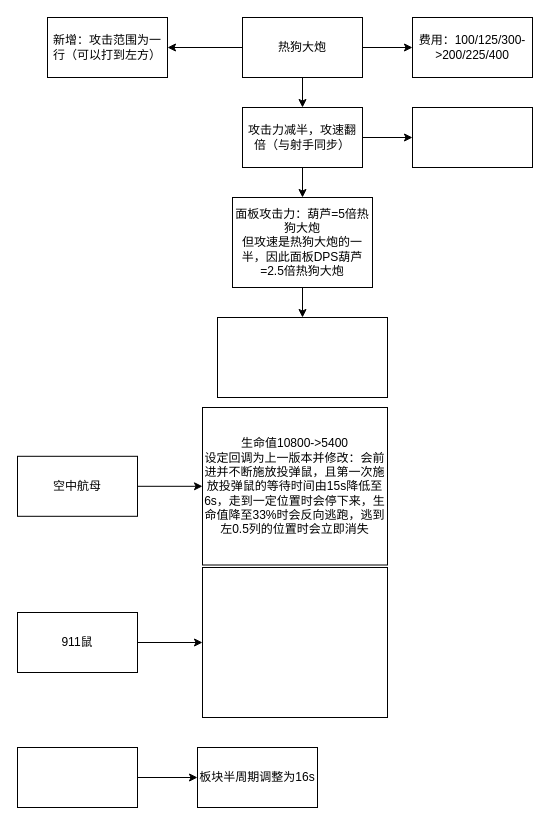
The diagram is 550 pixels wide and 825 high, and some of its shapes have lost their labels. The shapes that lost their labels are listed below. From the top down, each one's box as (x1, y1, x2, y2) in pixels, then its label:
(412, 106, 532, 168): 攻击附加冰冻损伤（对空）67->50，对被凝结单位33->25
(216, 316, 388, 398): 对被<凝结>的敌人额外伤害倍率100%->150%，算上本身的100%，为250%，因此打<凝结>空中敌人DPS与葫芦一致。
(202, 566, 388, 718): 坠机时造成的范围冰冻损伤范围由3*3降低至1格。
(16, 746, 138, 808): 月桂天空、香叶空港
